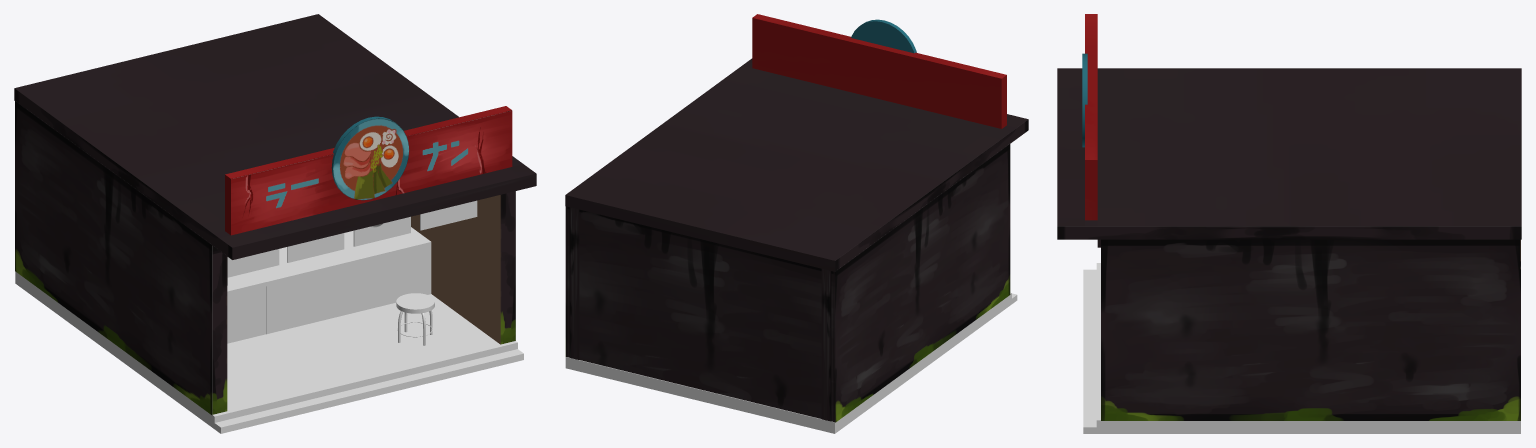
Rendered from RamenStoreTexture.fbx.
3 views of the same model, side by side, from view 1: azimuth 30°, elevation 25°; view 2: azimuth 150°, elevation 25°; view 3: azimuth 270°, elevation 25° (orthographic). The views are drawn at different scales.
Parts seen in each view (by area): view 1: Roof, Wall_SIde, Floor/Ground, Table, Wall_SIde.001, Sign, TableDoorFront, Name_Curtin.001, Name_Curtin.003, Name_Curtin.002, Name_Curtin, Stool (+1 smaller); view 2: Roof, Wall_back, Wall_SIde, Floor/Ground, Wall_SIde.001, Sign; view 3: Roof, Wall_SIde.001, Floor/Ground.
Part boxes in pixels (left/top/right/bottom): Roof: left=14, top=14, right=536, bottom=259; Wall_SIde: left=15, top=101, right=227, bottom=415; Floor/Ground: left=15, top=271, right=523, bottom=433; Table: left=252, top=227, right=431, bottom=334; Wall_SIde.001: left=411, top=191, right=515, bottom=344; Sign: left=331, top=116, right=409, bottom=200; TableDoorFront: left=227, top=286, right=265, bottom=343; Name_Curtin.001: left=287, top=233, right=344, bottom=262; Name_Curtin.003: left=420, top=200, right=477, bottom=230; Name_Curtin.002: left=353, top=216, right=410, bottom=246; Name_Curtin: left=227, top=249, right=279, bottom=277; Stool: left=396, top=293, right=434, bottom=313; Roof: left=565, top=14, right=1028, bottom=271; Wall_back: left=567, top=206, right=835, bottom=421; Wall_SIde: left=821, top=144, right=1010, bottom=422; Floor/Ground: left=565, top=292, right=1017, bottom=433; Wall_SIde.001: left=565, top=206, right=579, bottom=359; Sign: left=851, top=19, right=916, bottom=53; Roof: left=1057, top=14, right=1521, bottom=247; Wall_SIde.001: left=1101, top=239, right=1520, bottom=420; Floor/Ground: left=1083, top=263, right=1520, bottom=433.
Bounding box in the file's own units: 685 × 600 × 851.
